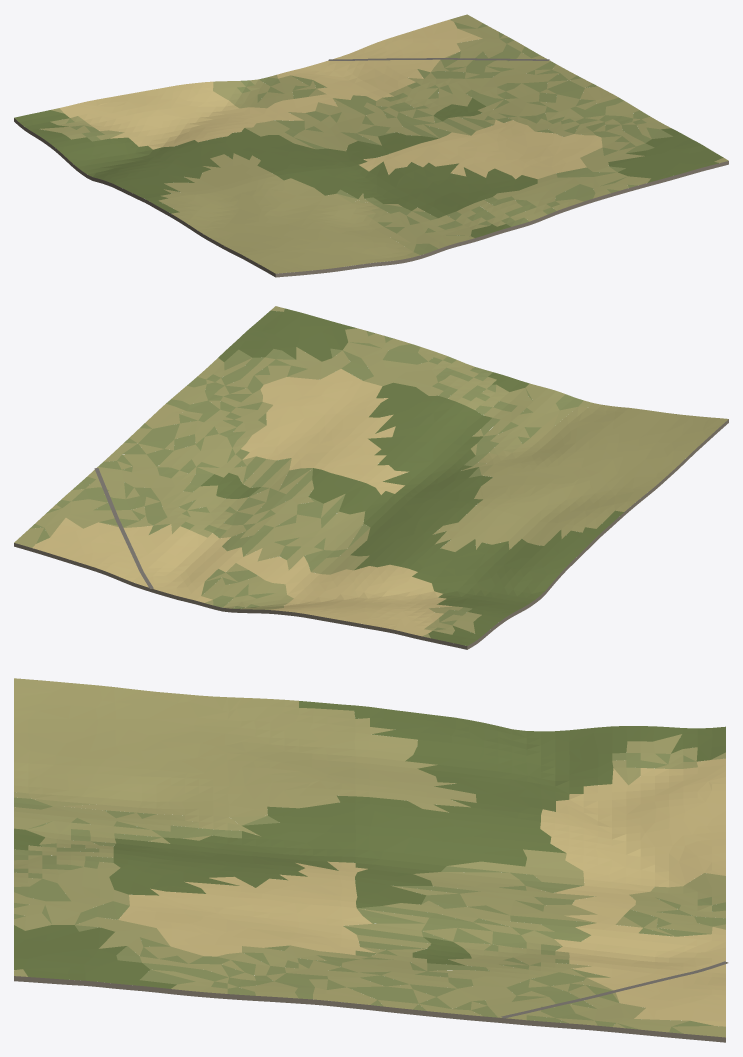
Rendered from parca_+9_+1-uzak.glb.
3 views of the same model, one above another, from view 1: azimuth 30°, elevation 25°; view 2: azimuth 150°, elevation 25°; view 3: azimuth 270°, elevation 25° (orthographic). The views are drawn at different scales.
Parts seen in each view (by area): view 1: parca_+9_+1_arazi_uzak, parca_+9_+1_yollar_uzak; view 2: parca_+9_+1_arazi_uzak, parca_+9_+1_yollar_uzak; view 3: parca_+9_+1_arazi_uzak, parca_+9_+1_yollar_uzak.
Boxes of the visible parts, x1,y1,x2,y2 form: parca_+9_+1_arazi_uzak: (14, 14, 728, 277); parca_+9_+1_yollar_uzak: (328, 58, 549, 60); parca_+9_+1_arazi_uzak: (14, 306, 728, 649); parca_+9_+1_yollar_uzak: (94, 468, 153, 588); parca_+9_+1_arazi_uzak: (14, 678, 725, 1042); parca_+9_+1_yollar_uzak: (501, 961, 728, 1018).
Bounding box in the file's own units: 1003 × 133 × 1004.
